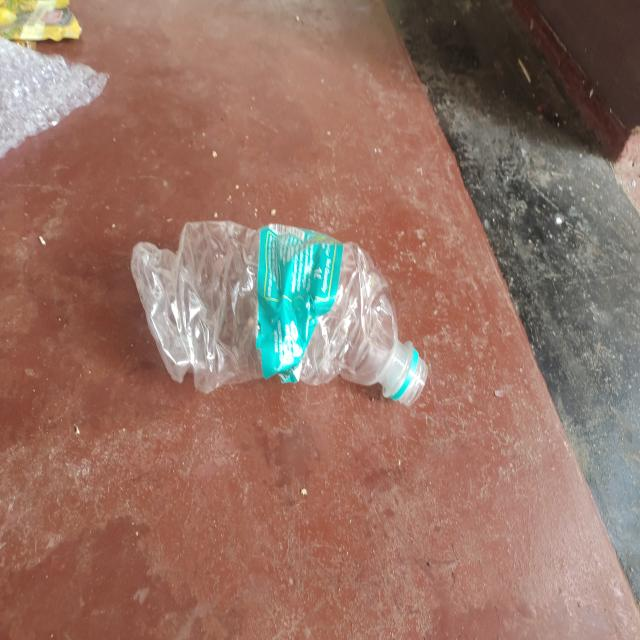plastic: (128, 215, 430, 408)
